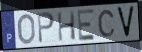C: (97, 9, 117, 39)
E: (77, 8, 97, 43)
H: (56, 10, 77, 43)
O: (17, 13, 36, 46)
P: (36, 11, 56, 45)
V: (115, 5, 136, 39)
